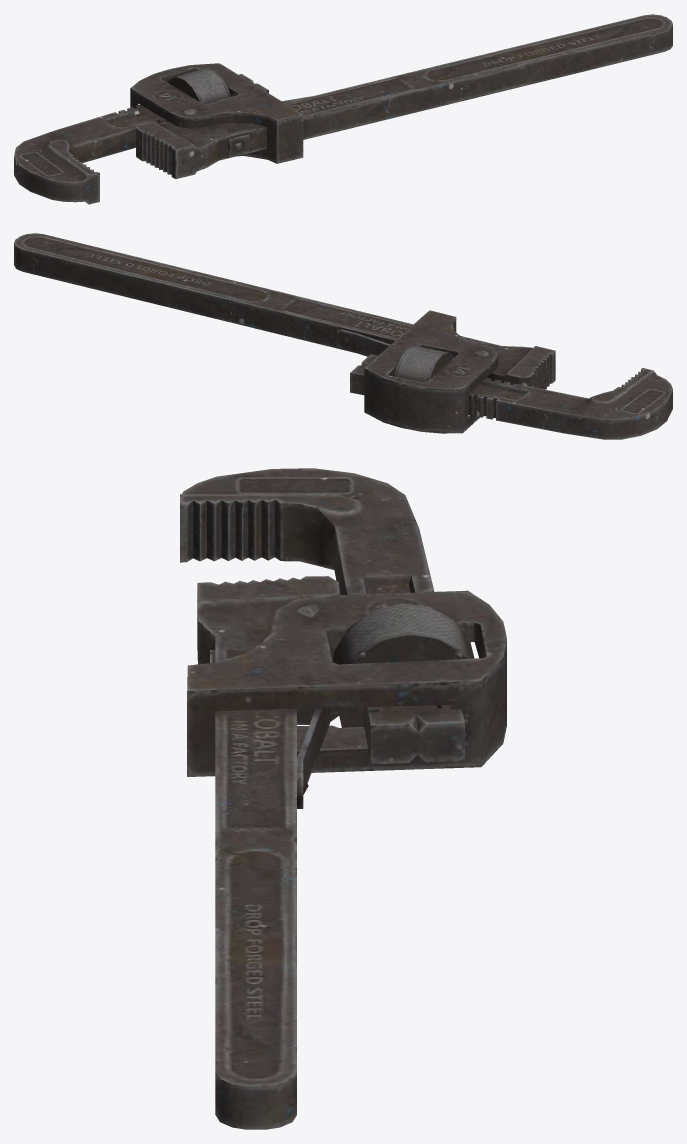
Rendered from pipewrench_a.glb.
3 views of the same model, one above another, from view 1: azimuth 30°, elevation 25°; view 2: azimuth 150°, elevation 25°; view 3: azimuth 270°, elevation 25° (orthographic). The views are drawn at different scales.
Parts seen in each view (by area): view 1: PipeWrench_a_LOD0; view 2: PipeWrench_a_LOD0; view 3: PipeWrench_a_LOD0.
Part boxes in pixels (x1,y1,x2,y2): PipeWrench_a_LOD0: (14,14,672,204); PipeWrench_a_LOD0: (14,233,672,439); PipeWrench_a_LOD0: (180,468,506,1129).
Bounding box in the file's own units: 0.4021 × 0.0406 × 0.0896.
Materials: 1 (1 with a texture image).
